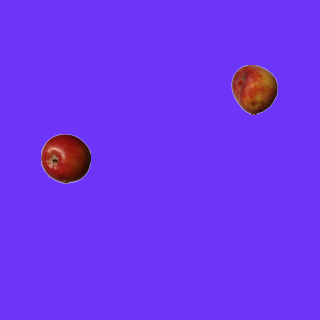Apple Braeburn: (40, 133, 90, 183)
Peach: (229, 64, 279, 114)
